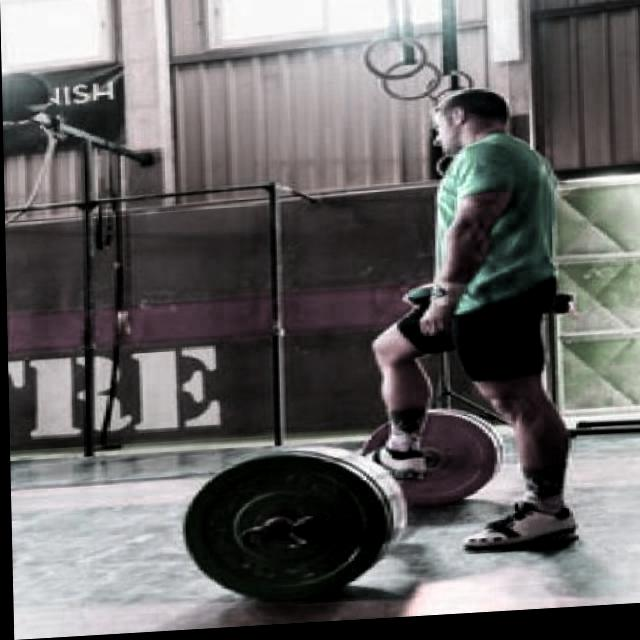barbell: (172, 450, 392, 617)
